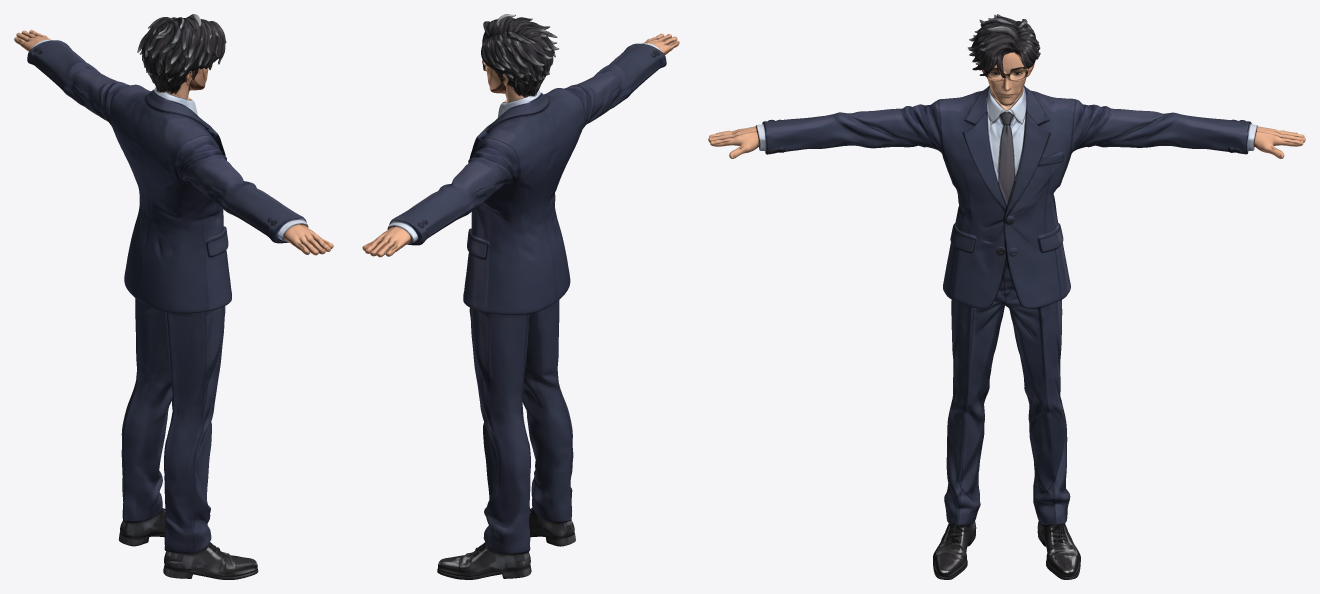
The model's file is salaryman-tripo-03.glb.
The picture shows the model from 3 angles, left to right: view 1: azimuth 30°, elevation 25°; view 2: azimuth 150°, elevation 25°; view 3: azimuth 270°, elevation 25°; orthographic projection.
Parts seen in each view (by area): view 1: tripo_node_4fd82d68-b122-4152-8423-0ae8c4cfe8e7; view 2: tripo_node_4fd82d68-b122-4152-8423-0ae8c4cfe8e7; view 3: tripo_node_4fd82d68-b122-4152-8423-0ae8c4cfe8e7.
Boxes of the visible parts, <box> form: tripo_node_4fd82d68-b122-4152-8423-0ae8c4cfe8e7: <box>14,14,333,579</box>; tripo_node_4fd82d68-b122-4152-8423-0ae8c4cfe8e7: <box>362,14,679,579</box>; tripo_node_4fd82d68-b122-4152-8423-0ae8c4cfe8e7: <box>708,14,1305,579</box>.
Bounding box in the file's own units: 0.1698 × 0.9966 × 1.
Materials: 1 (1 with a texture image).
